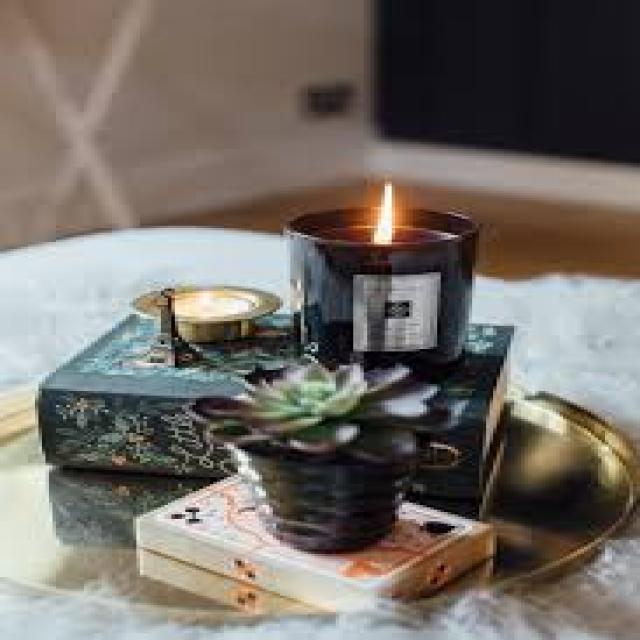fire: (367, 179, 402, 242)
